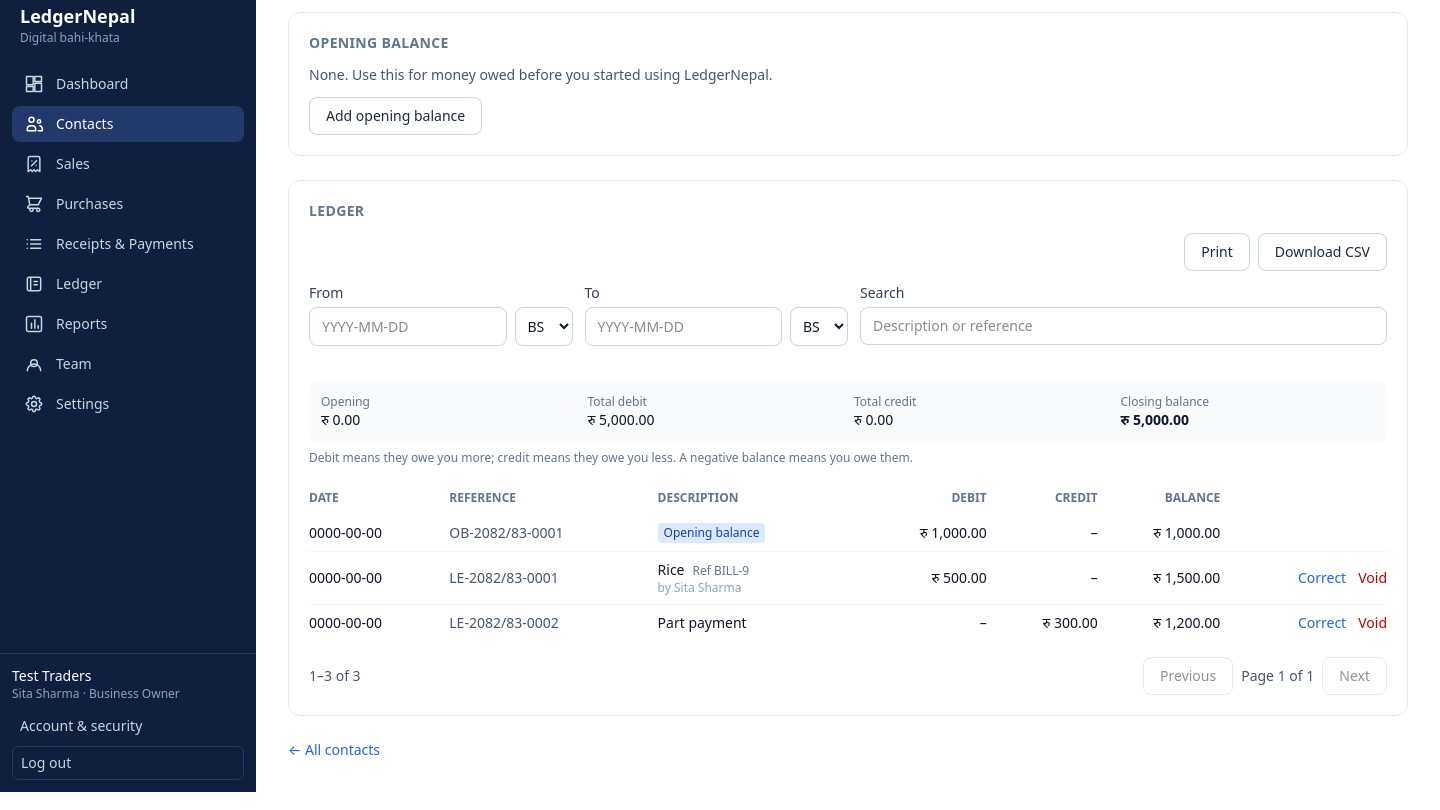
Scenario: the contact ledger › voiding › asks for a reason, explains what happens, and refreshes the ledger afterwards
(page scrolled)
Click the button with aria-label "Void LE-2082/83-0001" at (1373, 578), box [1358,568,1387,588]
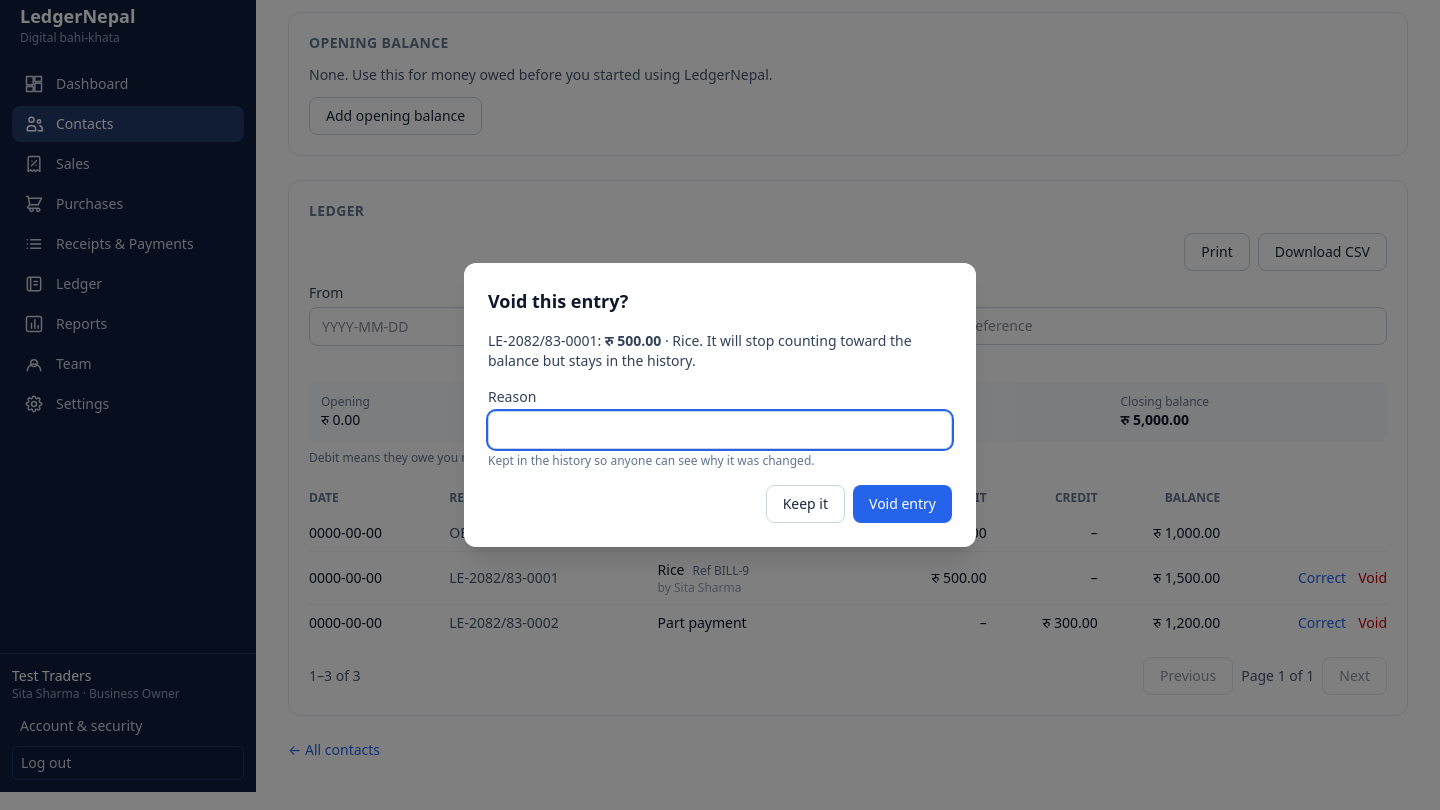
expect the text "stop counting toward the balance but stays in the history" is shown: met, box [488,331,912,370]
Type "Entered for the wrong customer" into the field labelled "Reason" at (720, 430), box [488,411,952,449]
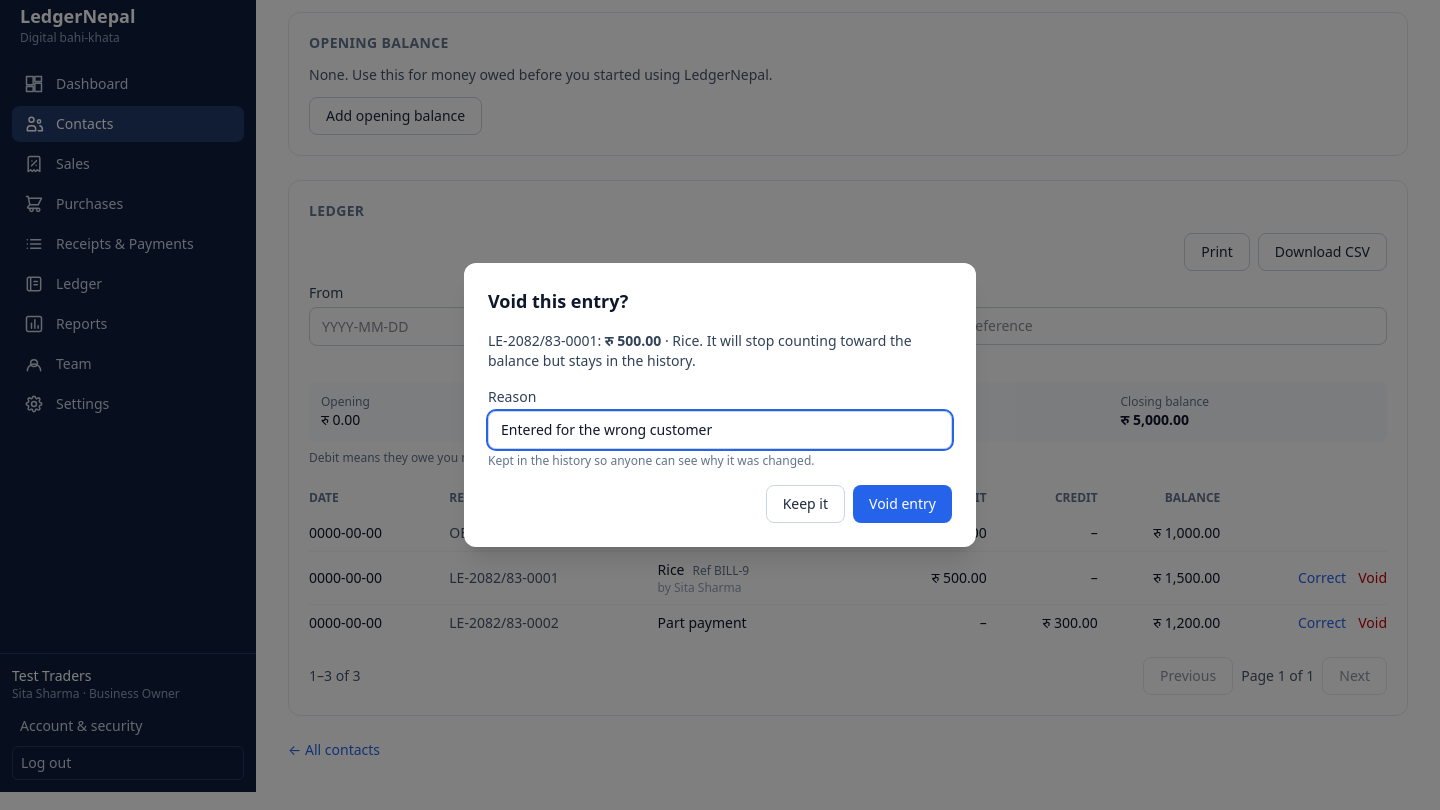
Click the button "Void entry" at (902, 504), box [853,485,952,523]
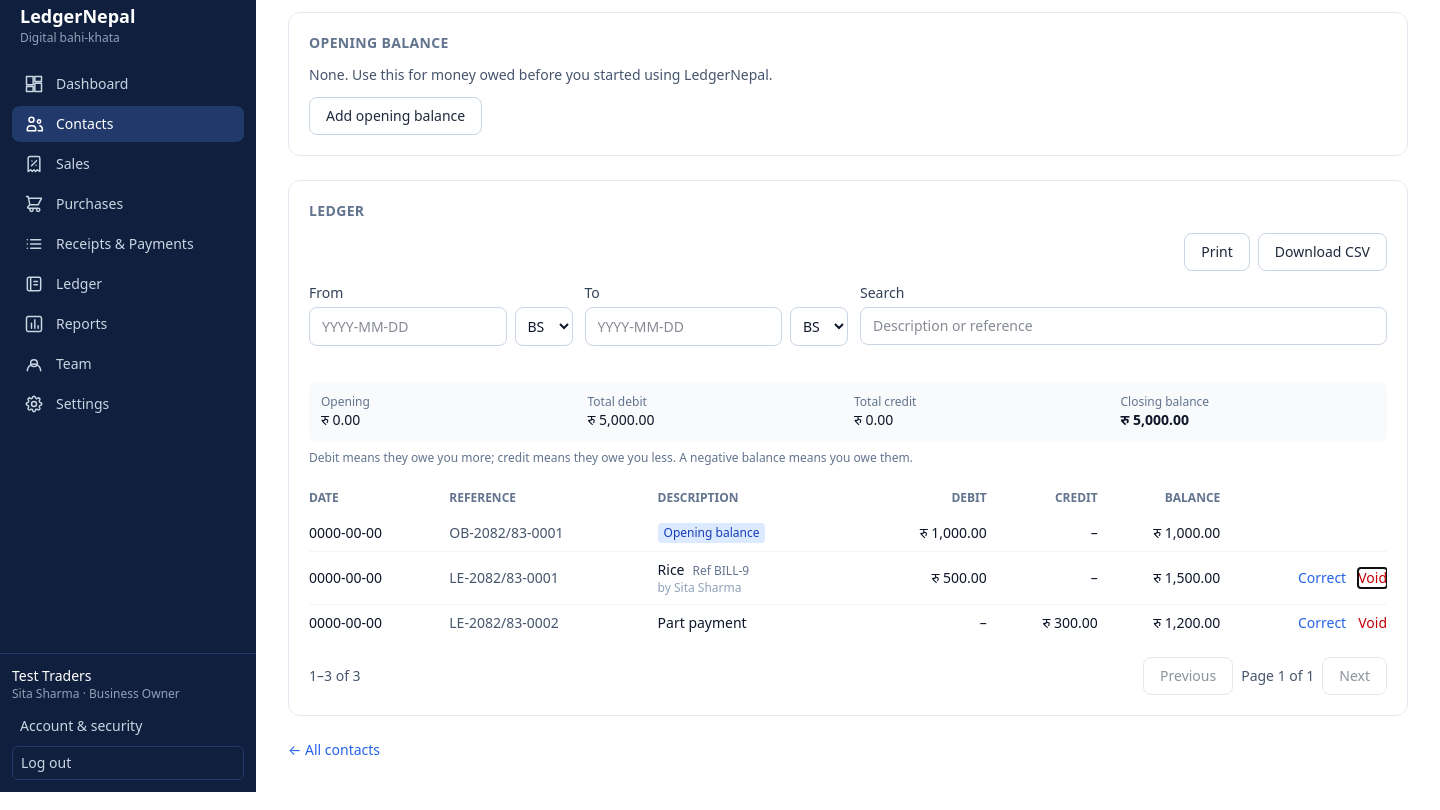
expect the dialog is gone: met
